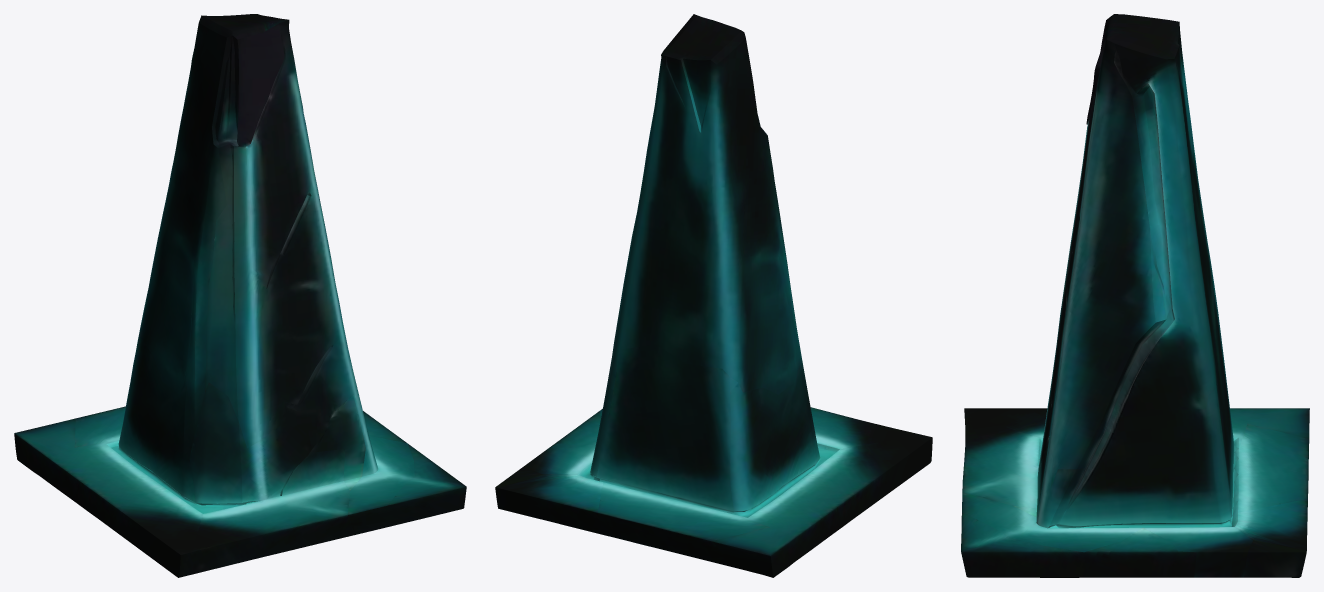
File: m2GlowObelisk.glb
3 renders of one model, left to right at view 1: azimuth 30°, elevation 25°; view 2: azimuth 150°, elevation 25°; view 3: azimuth 270°, elevation 25°, orthographic. The views are drawn at different scales.
Visible parts, largest first — view 1: model; view 2: model; view 3: model.
Part boxes in pixels (bbox=[...]): model: bbox=[14, 14, 466, 577]; model: bbox=[495, 14, 932, 577]; model: bbox=[961, 14, 1309, 577].
Size of the model in its own units: 1.21 by 1.89 by 1.23.
Materials: 1 (1 with a texture image).
